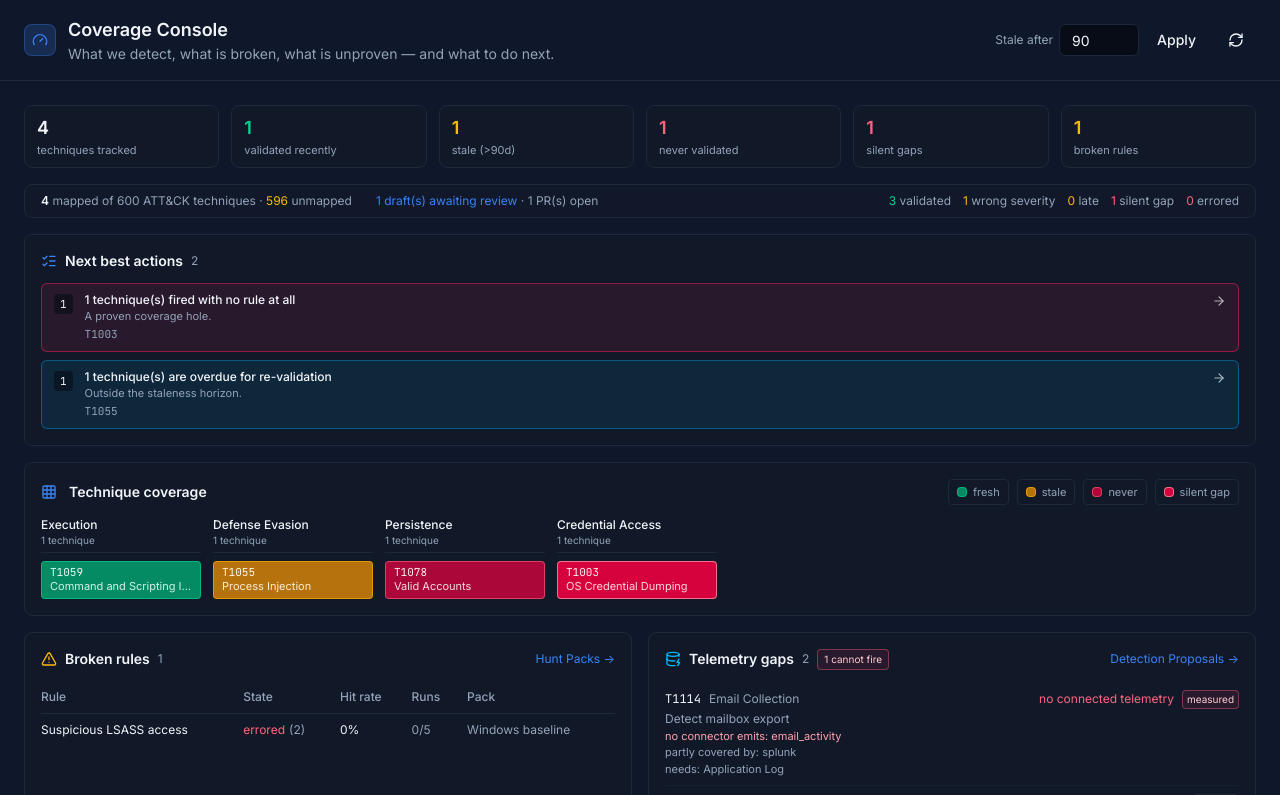
Test: CoverageConsolePage › filters the heatmap to one band without hiding that the band is empty
This screenshot has width=1280, height=795.
Check: the element with test id "coverage-heatmap" is shown, box [24, 462, 1256, 616]
What coordinates should you click on to do the following:
click the button with test id "coverage-heatmap-band-silent_gap"
I would click on:
 (1197, 492)
Its box is [1155, 478, 1239, 505].
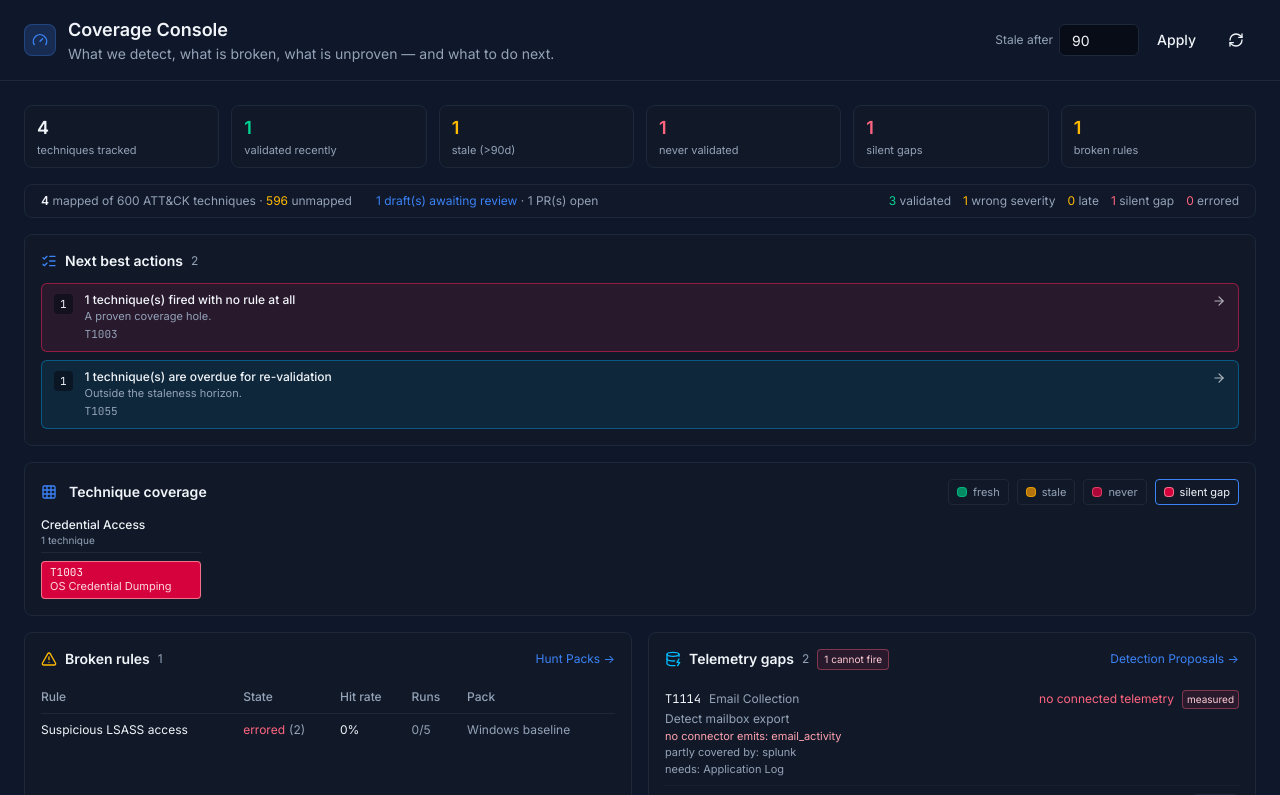
Check: the button with test id "coverage-cell-T1003" is shown, box [41, 561, 201, 598]
Check: the button with test id "coverage-cell-T1059" is gone
What coordinates should you click on to do the following:
click the button with test id "coverage-heatmap-band-silent_gap"
I would click on:
 (1197, 492)
Its box is [1155, 478, 1239, 505].
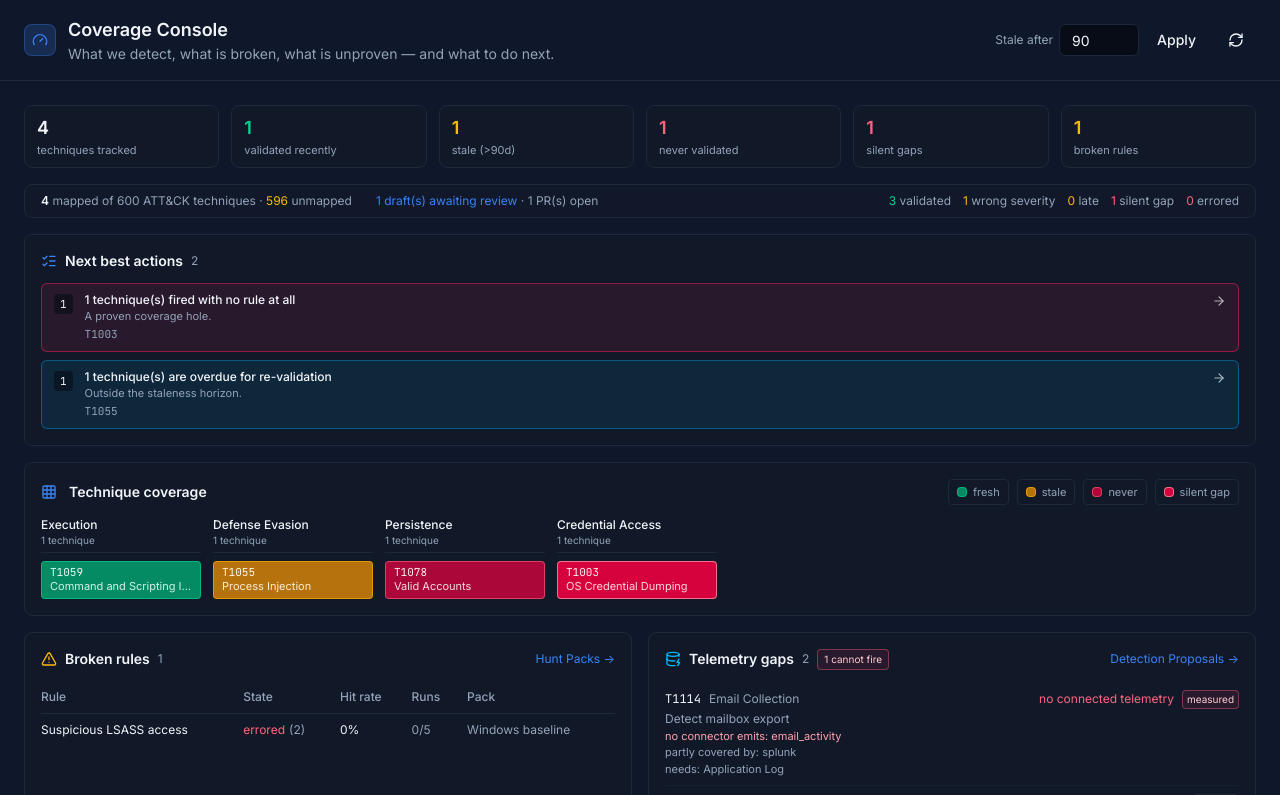
Check: the button with test id "coverage-cell-T1059" is shown, box [41, 561, 201, 598]
